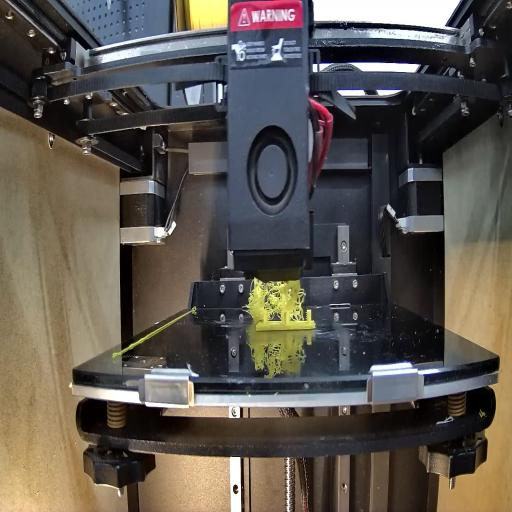spaghetti: (244, 278, 305, 319)
